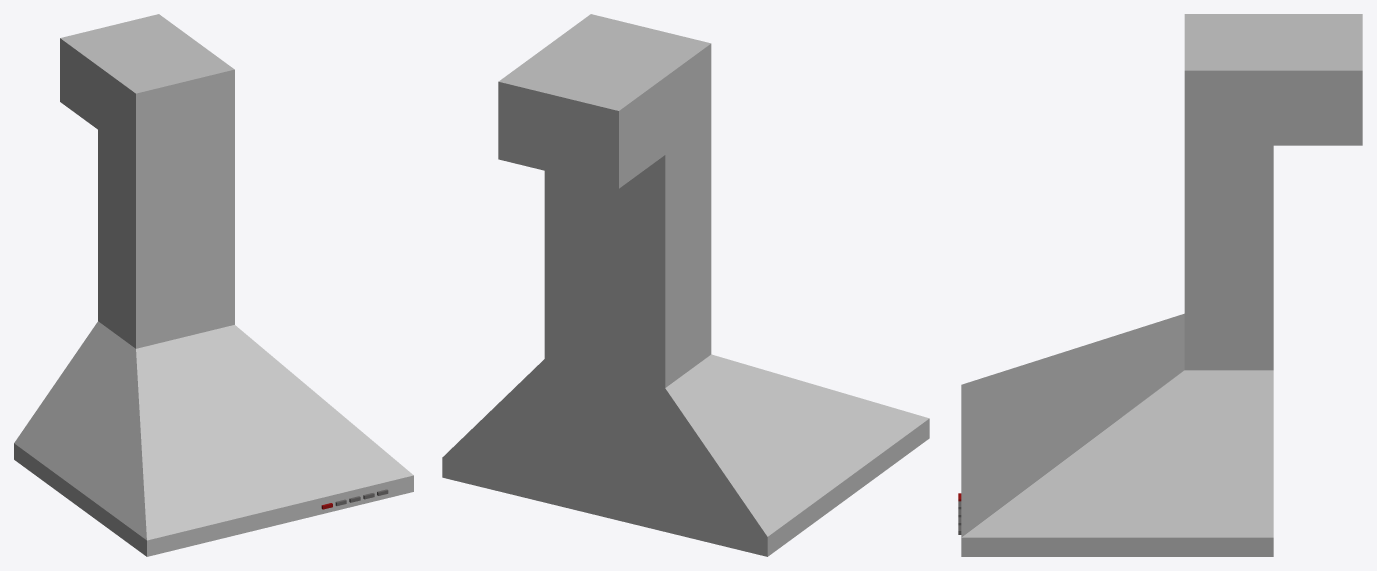
The model's file is AirExtraction.fbx.
3 views of the same model, side by side, from view 1: azimuth 30°, elevation 25°; view 2: azimuth 150°, elevation 25°; view 3: azimuth 270°, elevation 25° (orthographic). The views are drawn at different scales.
Parts seen in each view (by area): view 1: AirExtraction; view 2: AirExtraction; view 3: AirExtraction.
Part boxes in pixels (bbox=[...]): AirExtraction: bbox=[14, 14, 413, 556]; AirExtraction: bbox=[442, 14, 929, 556]; AirExtraction: bbox=[958, 14, 1362, 556].
Bounding box in the file's own units: 69.36 × 92.67 × 77.53.
